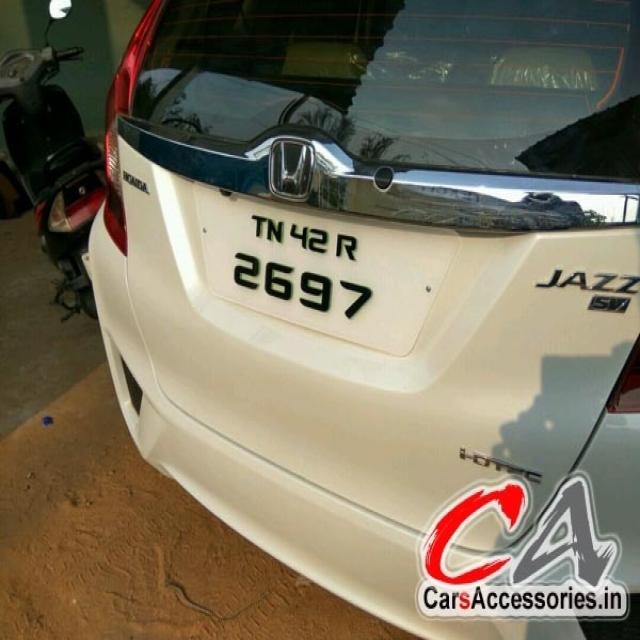number_plate: (198, 194, 390, 328)
